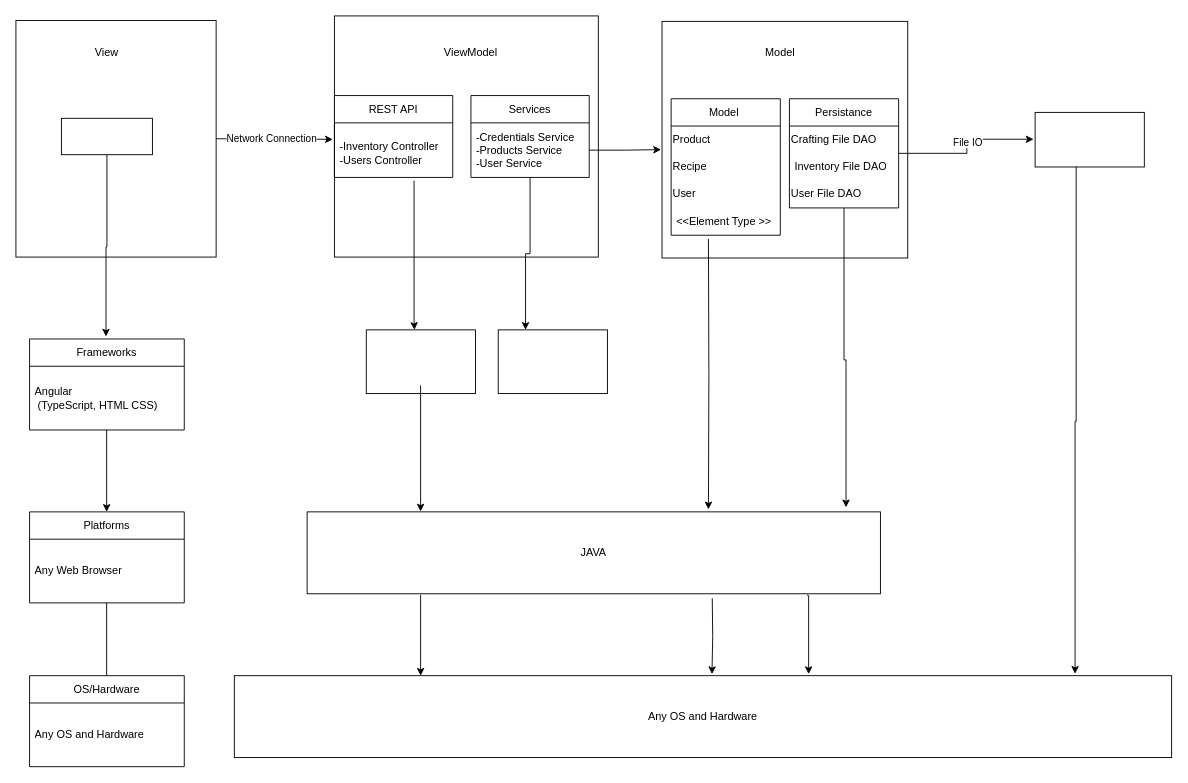
Image size: 1188x783. Some labels were removed from this diagram. Each missing label, with the centre of its shape:
Client UI: the point at 106,136
Spring (Embedded Tomcat): the point at 420,361
Storage: the point at 1089,139
TS Making HTTP Requests: the point at 552,361
